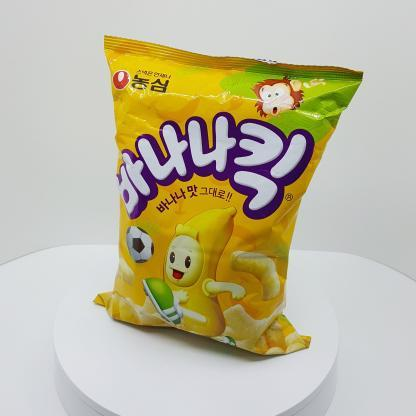Plastic Packaging: (87, 25, 373, 363)
